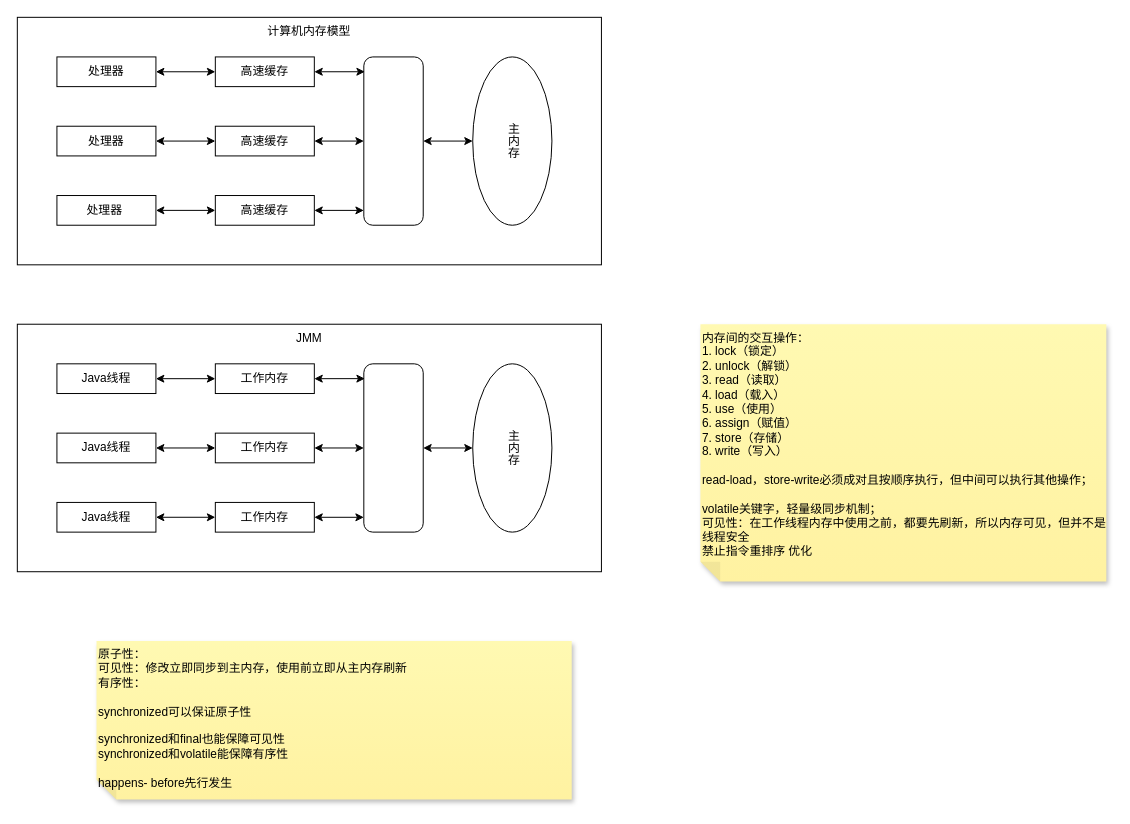
Image size: 1130x824. Some labels were removed from this diagram. The shapes that lost their labels are listed below. From the top down, each one's centre as x and y in pixels, then its label:
pixel 393 140: 缓存一致性协议
pixel 393 447: Save和Load操作
